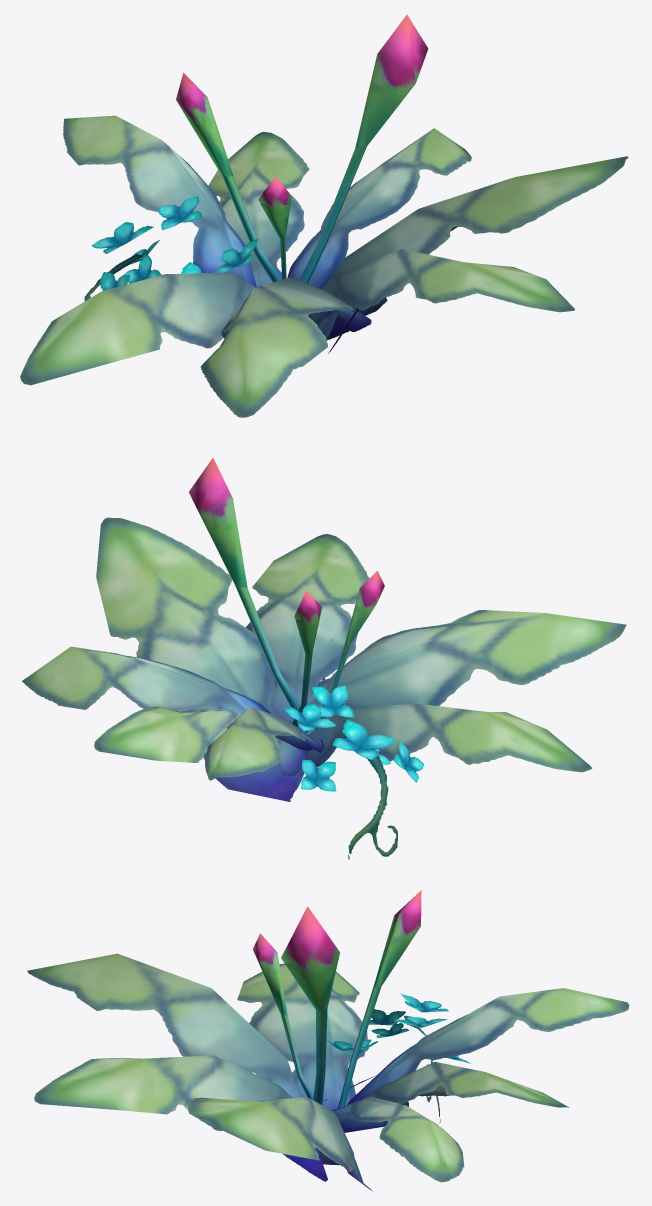
The model's file is map_xzw019.fbx.
3 renders of one model, top to bottom at view 1: azimuth 30°, elevation 25°; view 2: azimuth 150°, elevation 25°; view 3: azimuth 270°, elevation 25°, orthographic. The views are drawn at different scales.
Parts seen in each view (by area): view 1: map_xzw019; view 2: map_xzw019; view 3: map_xzw019.
Part boxes in pixels (box(x1,y1,x2,y2)): map_xzw019: box(20, 15, 628, 417); map_xzw019: box(22, 457, 626, 859); map_xzw019: box(27, 890, 629, 1191).
Size of the model in its own units: 2.04 by 1.13 by 2.
Materials: 1 (1 with a texture image).
